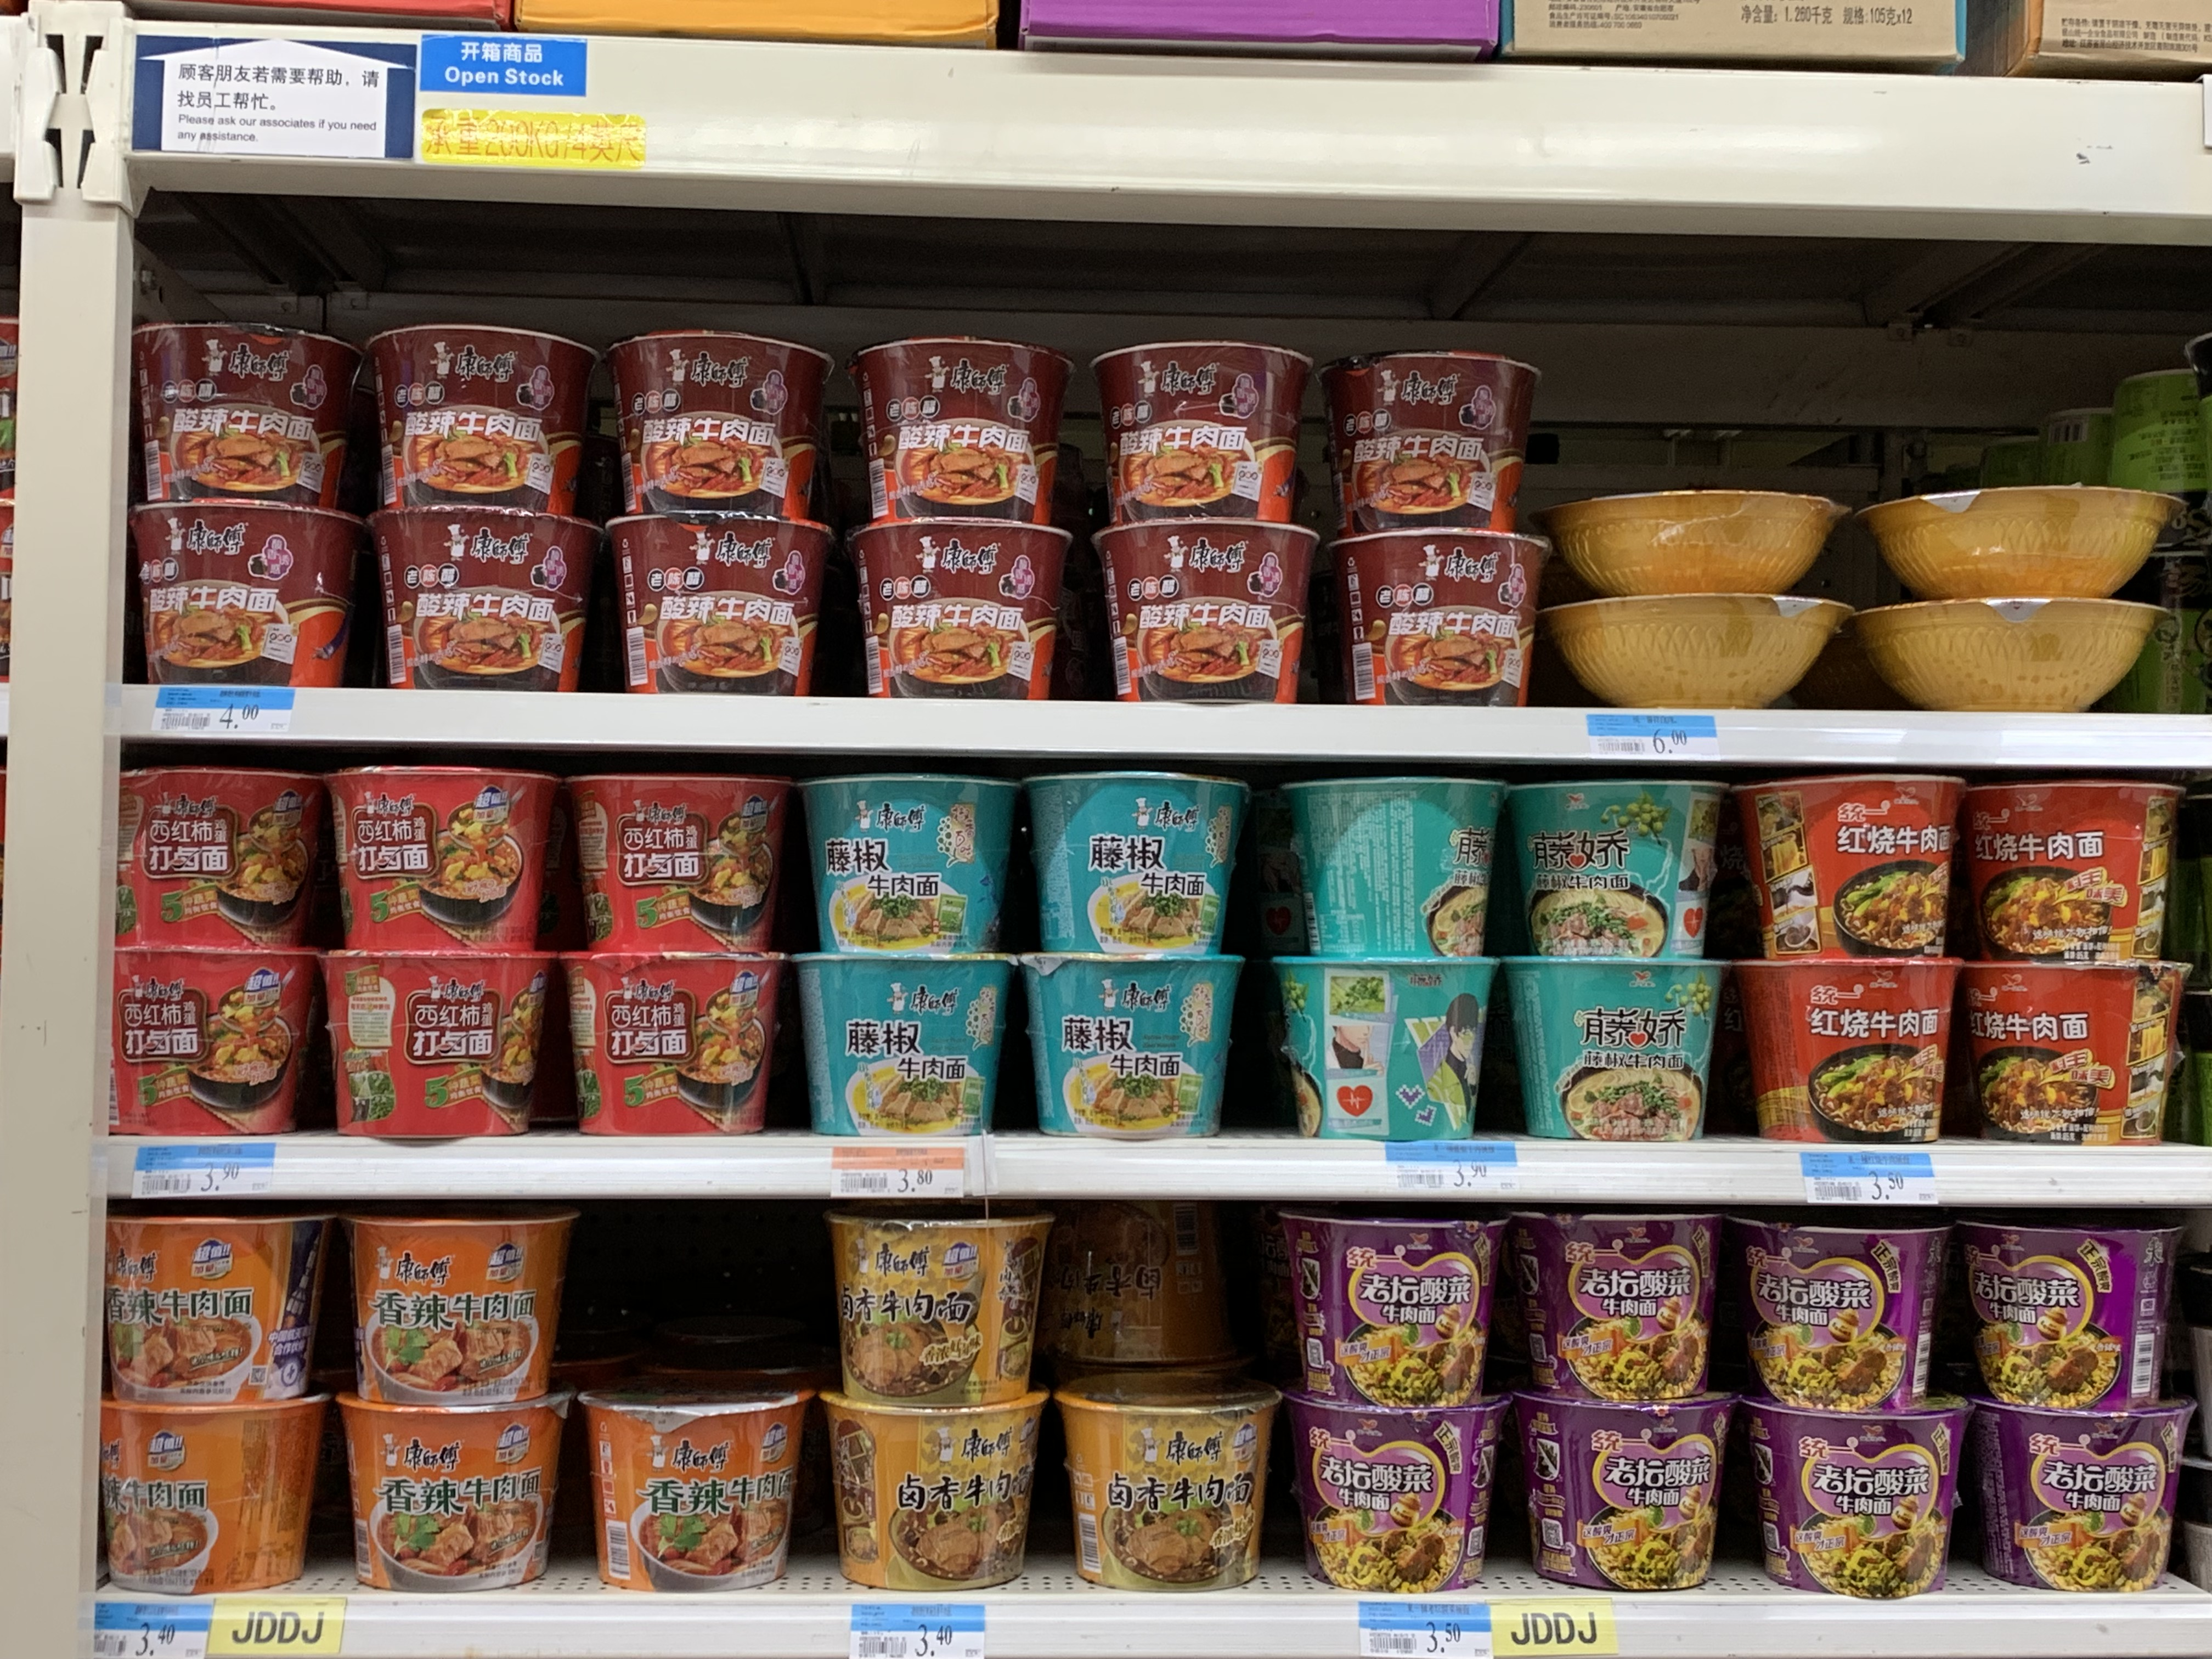luxiang: (1052, 1368, 1282, 1595), (822, 1204, 1061, 1410), (819, 1410, 1042, 1595)
xiangla: (577, 1373, 822, 1595), (345, 1211, 582, 1408), (103, 1216, 343, 1408), (99, 1406, 331, 1595), (338, 1406, 571, 1593)
